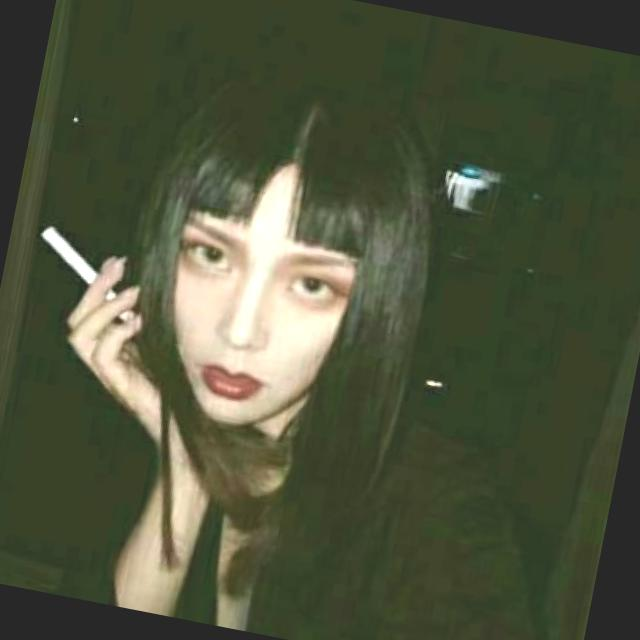smoke: (34, 218, 109, 287)
